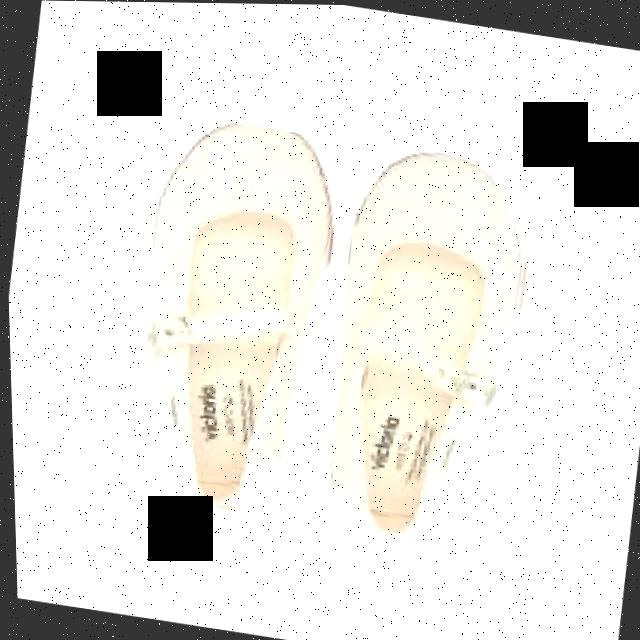shoe: (140, 123, 330, 508), (331, 154, 521, 537)
